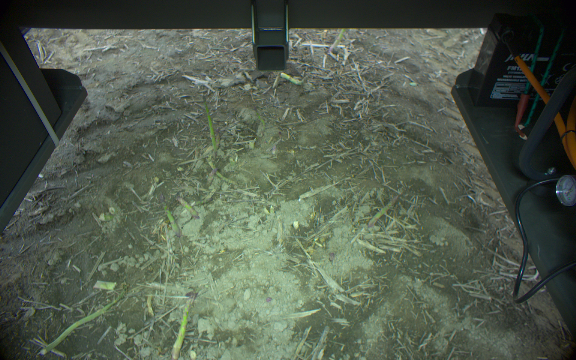aspa: (33, 287, 127, 360), (171, 292, 198, 360), (156, 194, 183, 239), (368, 191, 400, 228), (204, 158, 242, 188), (201, 96, 218, 150), (171, 194, 199, 220), (326, 29, 348, 62), (276, 69, 307, 86), (204, 167, 219, 190)
